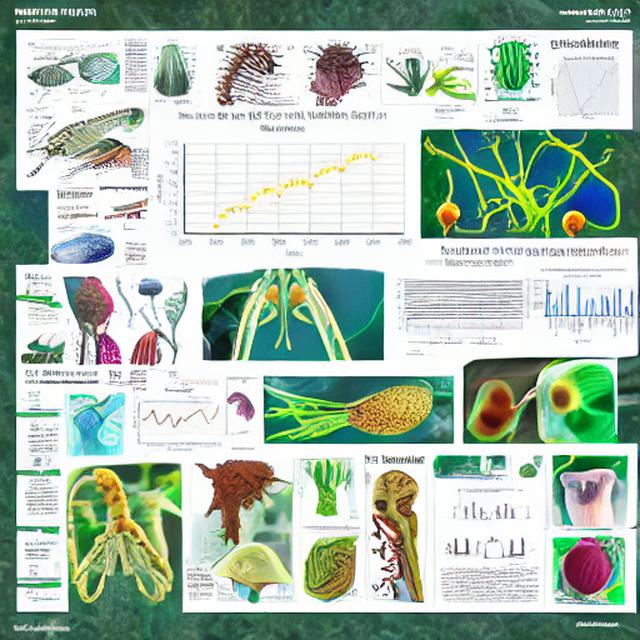Graph: (150, 109, 417, 264), (524, 265, 637, 345), (543, 53, 632, 120), (129, 397, 224, 454), (453, 490, 511, 524)
